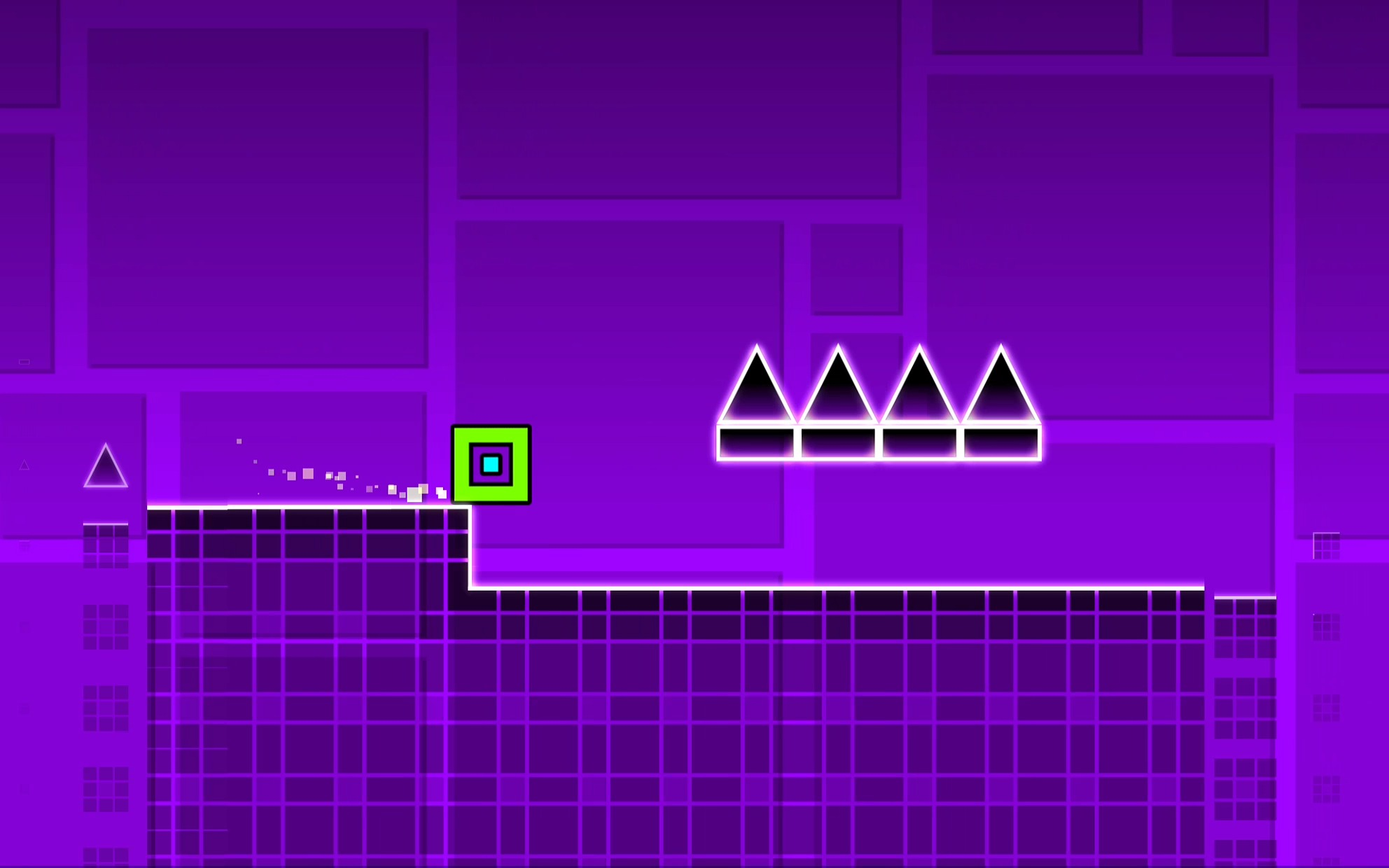Block2: (468, 585, 1292, 868), (79, 510, 468, 868)
Player: (451, 426, 531, 503)
Spike: (963, 344, 1040, 421), (719, 345, 795, 422), (884, 345, 956, 420), (802, 345, 872, 420), (83, 442, 127, 486)
